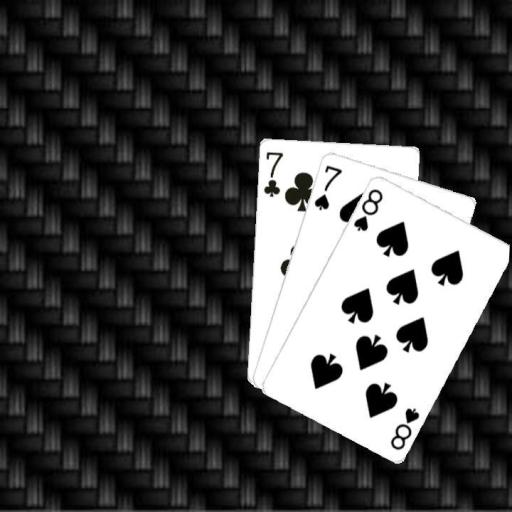7C: (261, 148, 285, 198)
7S: (311, 162, 343, 212)
8S: (350, 185, 385, 232), (387, 404, 421, 451)
